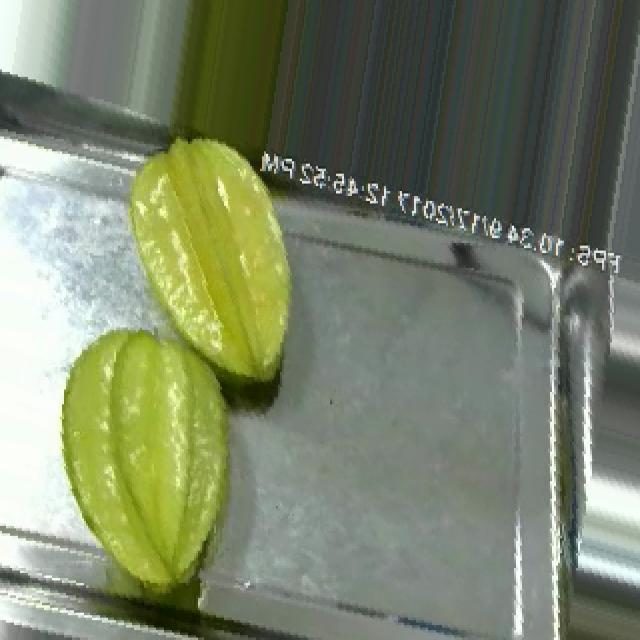fruit: (16, 295, 276, 608), (102, 107, 332, 414)
